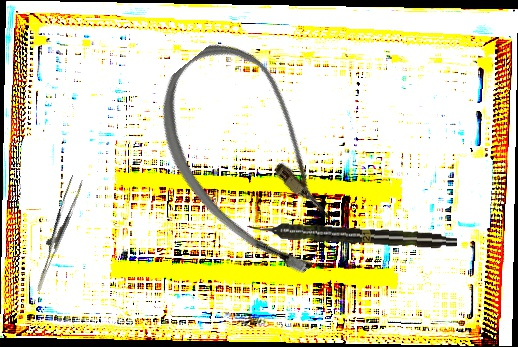Cannula: (127, 25, 383, 295)
Handpiece: (248, 218, 458, 252)
Tissue Forceps: (18, 175, 94, 292)
